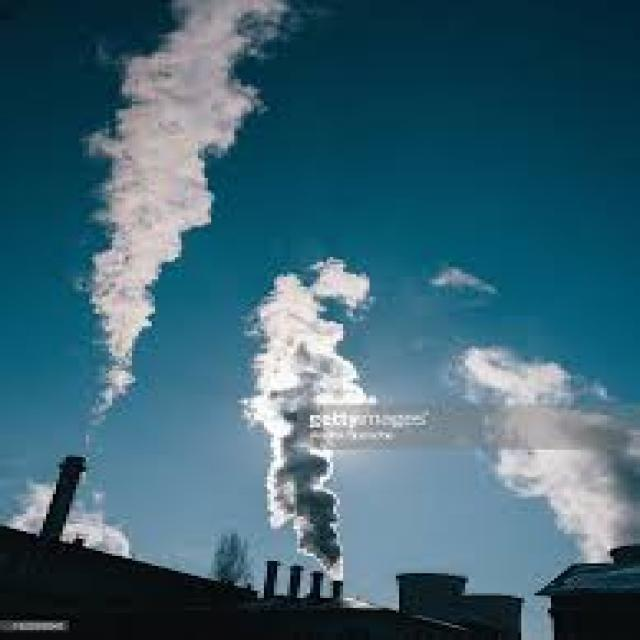Smoke: (80, 0, 367, 568), (445, 334, 640, 564)
